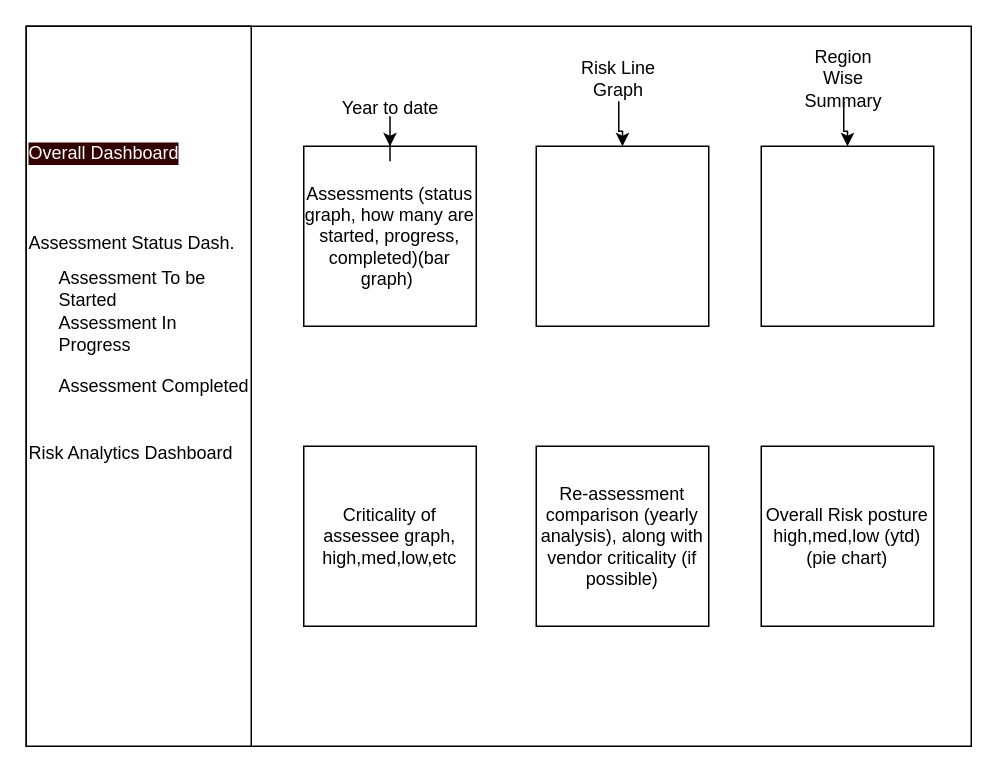
The diagram is 998 pixels wide and 773 high, and some of its shapes have lost their labels. Here are the shapes that lost their labels. From the top down, the box of each, then its label:
(535, 145, 709, 326): Risk overview (prob. line graph) (low risk, high risk,critical,etc.)
(760, 145, 934, 326): Risk
